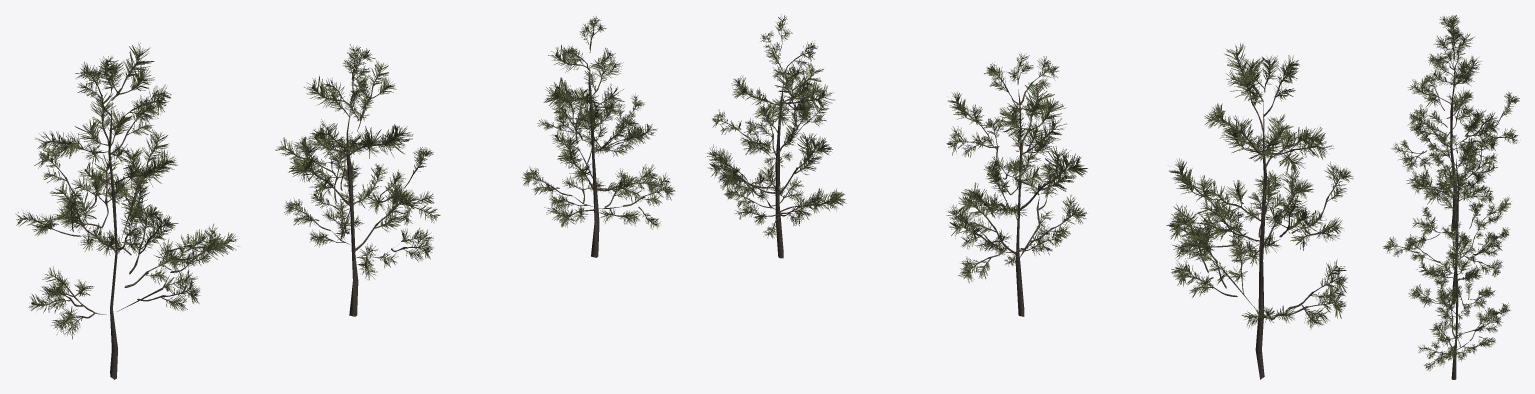
The model's file is saplings.glb.
The picture shows the model from 3 angles, left to right: view 1: azimuth 30°, elevation 25°; view 2: azimuth 150°, elevation 25°; view 3: azimuth 270°, elevation 25°; orthographic projection. The views are drawn at different scales.
Visible parts, largest first — view 1: pine_sapling_small_a, pine_sapling_small_b, pine_sapling_small_c; view 2: pine_sapling_small_a, pine_sapling_small_b, pine_sapling_small_c; view 3: pine_sapling_small_a, pine_sapling_small_b, pine_sapling_small_c.
Part boxes in pixels (x1,y1,x2,y2): pine_sapling_small_a: [15, 43, 239, 379]; pine_sapling_small_b: [275, 44, 440, 316]; pine_sapling_small_c: [522, 16, 675, 257]; pine_sapling_small_a: [1166, 43, 1353, 379]; pine_sapling_small_b: [946, 52, 1087, 316]; pine_sapling_small_c: [705, 14, 846, 258]; pine_sapling_small_a: [1391, 15, 1519, 230]; pine_sapling_small_b: [1383, 134, 1511, 303]; pine_sapling_small_c: [1408, 222, 1510, 379].
Bounding box in the file's own units: 2.64 × 1.3 × 0.7703.
2 materials, 2 textured.
